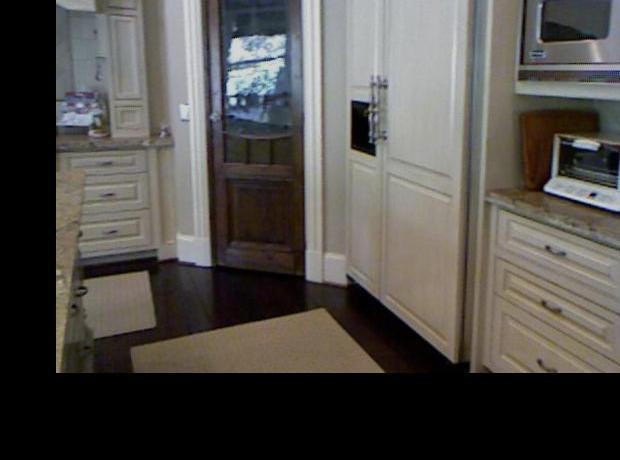Electrodomestico: (343, 0, 471, 363)
